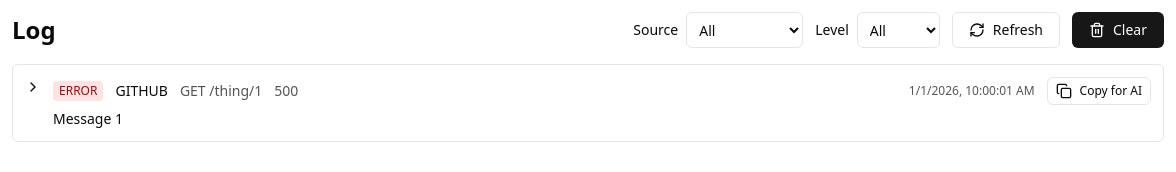
Log page › clears the log and then shows the empty state
The image size is (1176, 172).
Expected: the list item with test id "log-entry" is shown, [12,64,1164,142]
Click the button "Clear".
click(1118, 30)  # box [1072,12,1164,48]
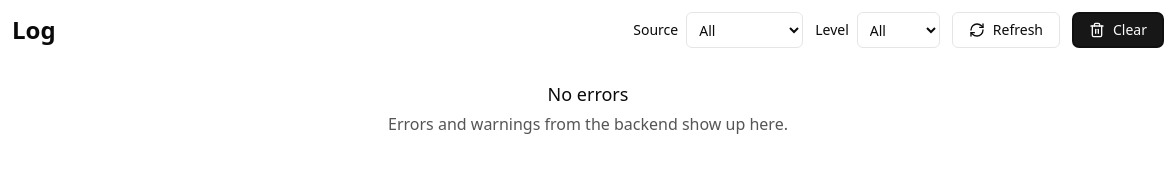
Expected: the text "No errors" is shown, [548,82,628,106]
